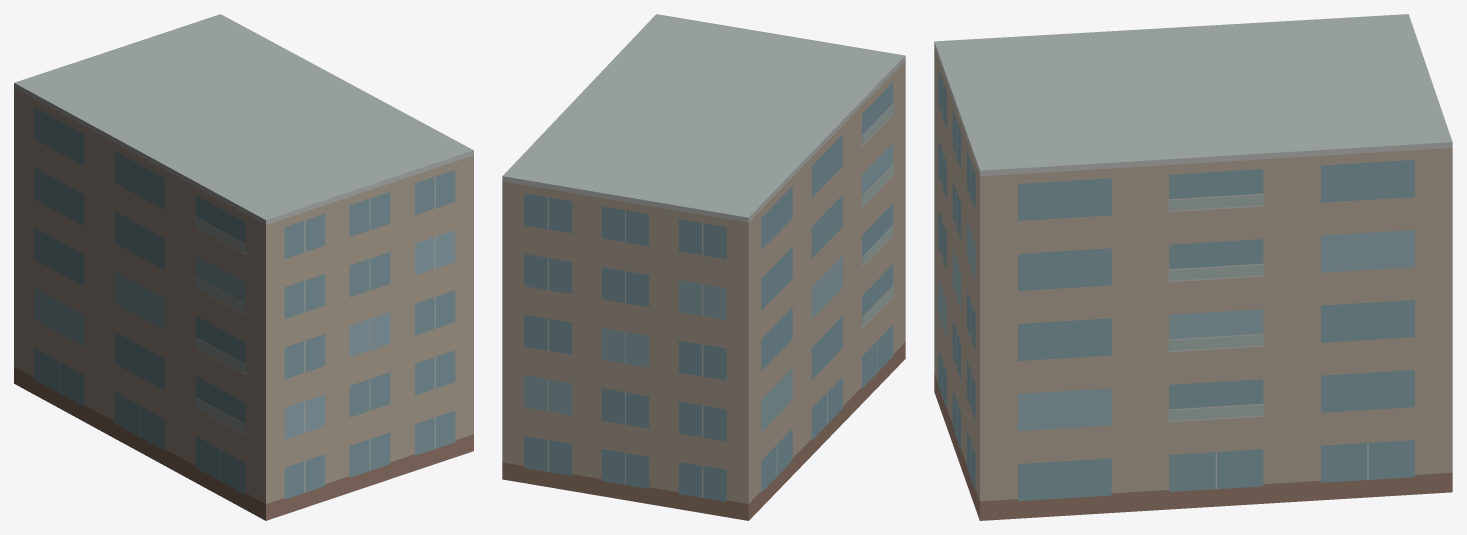
File: survey-upis-32706780.glb
3 views of the same model, side by side, from view 1: azimuth 30°, elevation 25°; view 2: azimuth 150°, elevation 25°; view 3: azimuth 270°, elevation 25° (orthographic). The views are drawn at different scales.
Parts seen in each view (by area): view 1: survey-upis-32706780.tmp; view 2: survey-upis-32706780.tmp; view 3: survey-upis-32706780.tmp.
Part boxes in pixels (x1,y1,x2,y2): survey-upis-32706780.tmp: [14, 14, 473, 520]; survey-upis-32706780.tmp: [502, 14, 905, 520]; survey-upis-32706780.tmp: [934, 14, 1452, 520].
Size of the model in its own units: 14.21 by 14.8 by 19.86.
